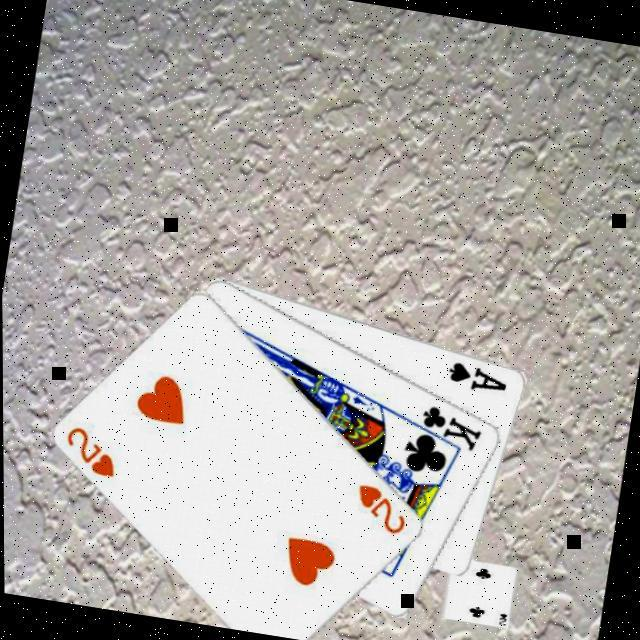2H: (60, 423, 126, 484), (350, 482, 415, 542)
AS: (444, 360, 514, 400)
KC: (406, 402, 490, 459)
